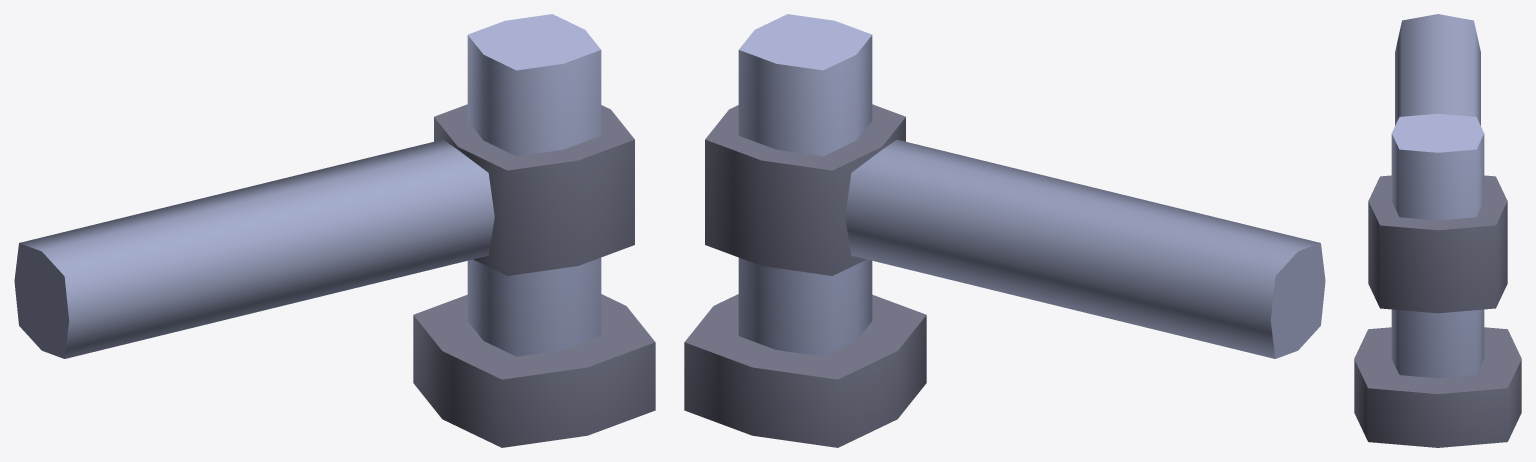
Rendered from fence.glb.
The picture shows the model from 3 angles, left to right: view 1: azimuth 30°, elevation 25°; view 2: azimuth 150°, elevation 25°; view 3: azimuth 270°, elevation 25°; orthographic projection. The views are drawn at different scales.
Parts seen in each view (by area): view 1: fence; view 2: fence; view 3: fence.
Part boxes in pixels (x1,y1,x2,y2): fence: [14, 14, 655, 447]; fence: [684, 14, 1325, 447]; fence: [1354, 14, 1521, 447].
Size of the model in its own units: 0.5935 by 0.3439 by 0.187.
Materials: 1 (1 with a texture image).
